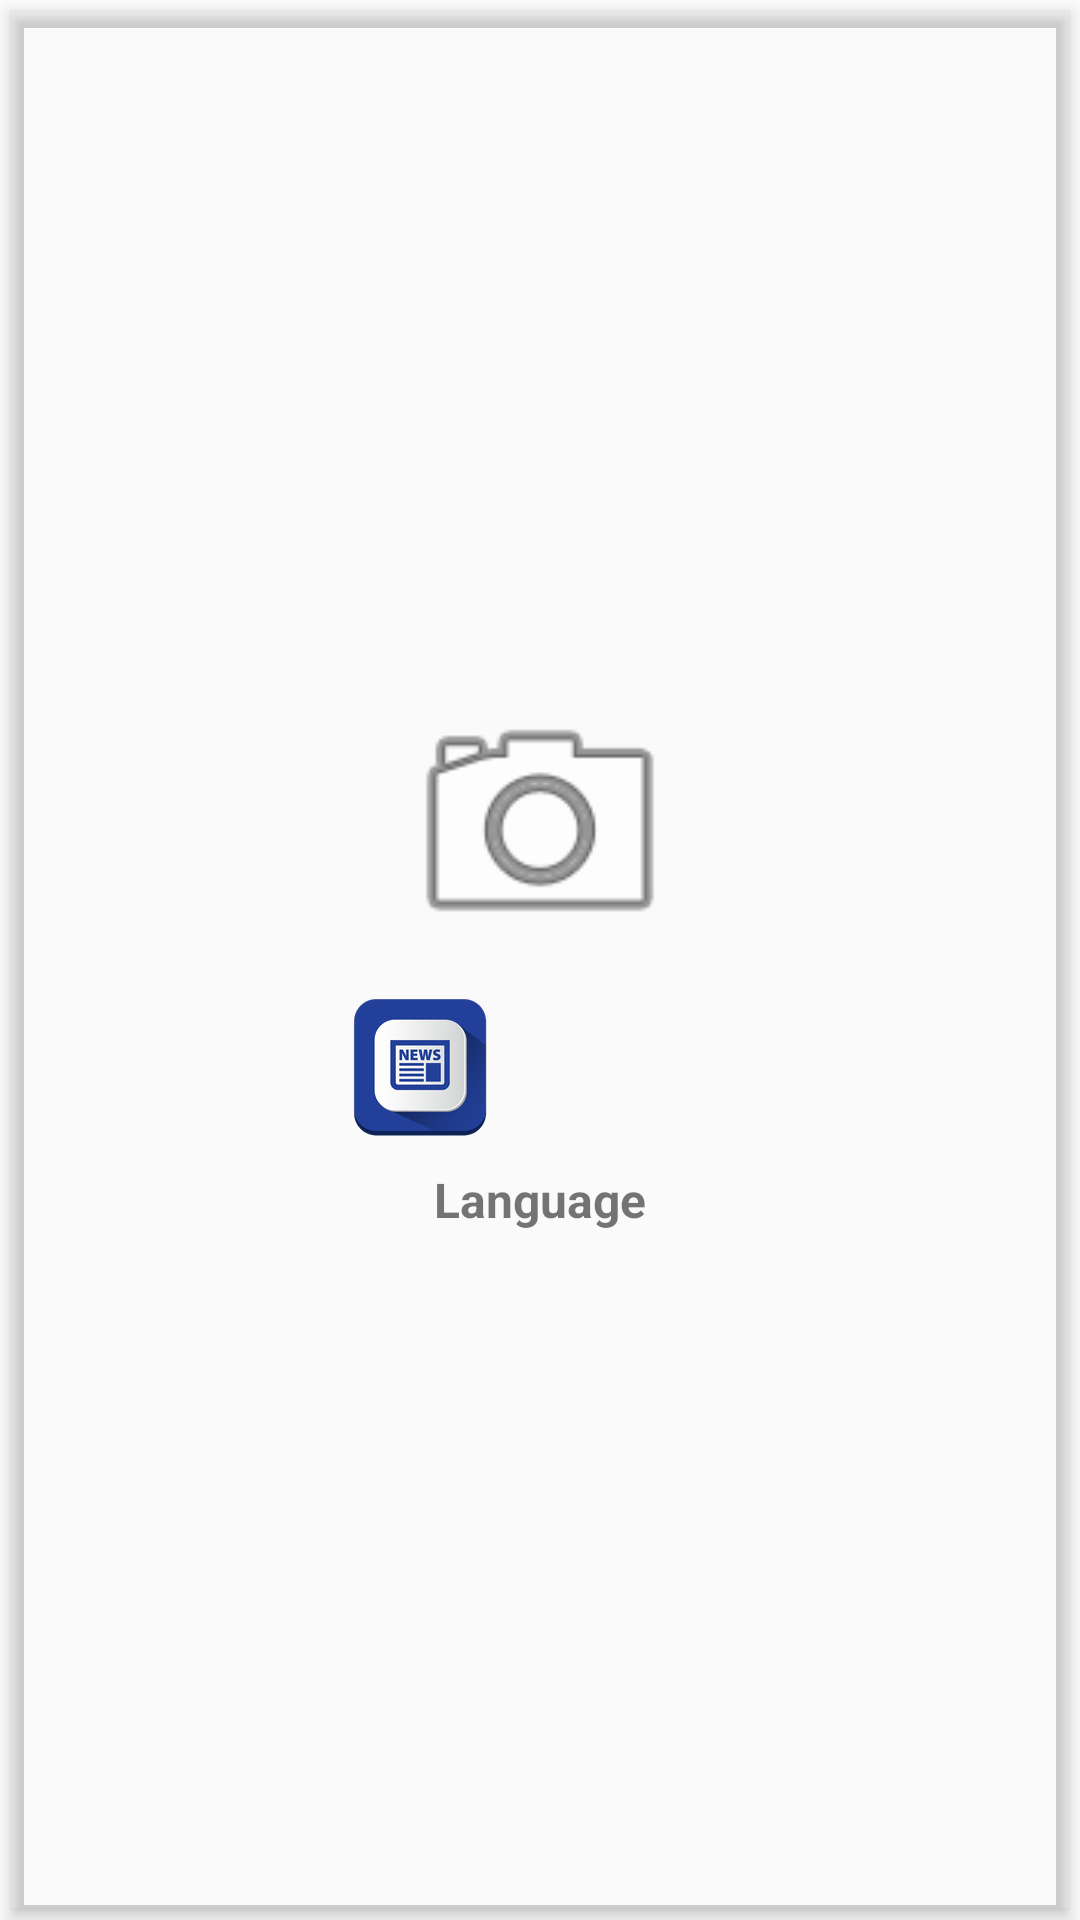

Where icons sit on this 1080w x 1920h app screen, as bbox(x1, y1, x2, y2):
camera: bbox(426, 730, 654, 911)
